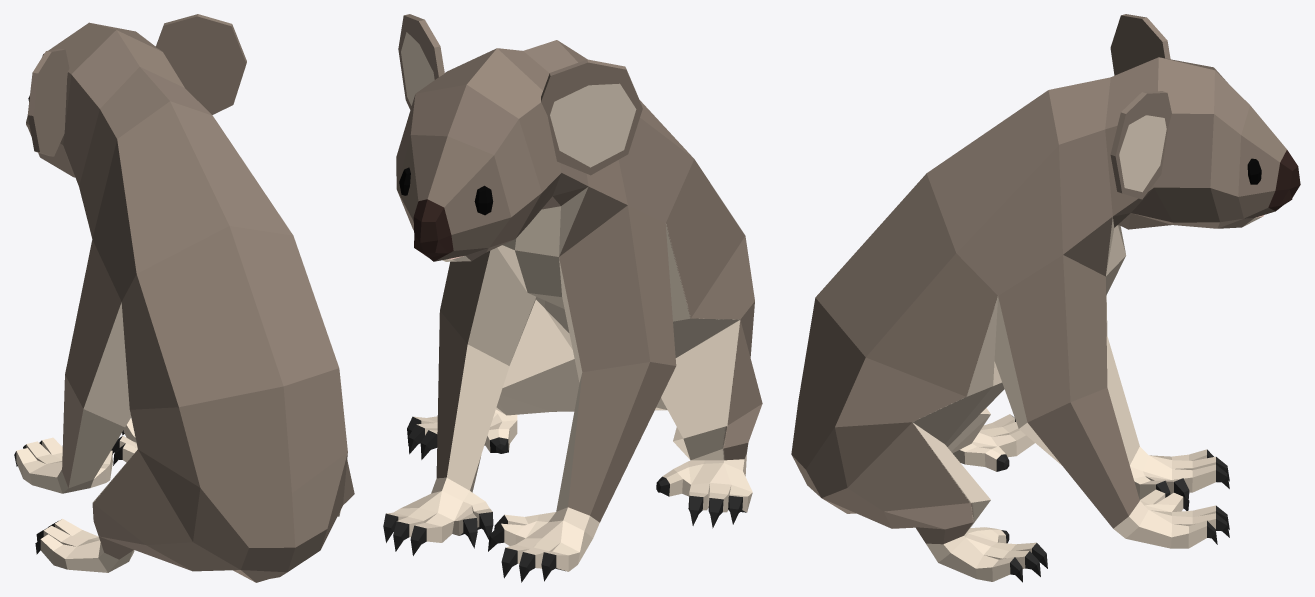
The model's file is koala.fbx.
The picture shows the model from 3 angles, left to right: view 1: azimuth 30°, elevation 25°; view 2: azimuth 150°, elevation 25°; view 3: azimuth 270°, elevation 25°; orthographic projection. The views are drawn at different scales.
Parts seen in each view (by area): view 1: Koala; view 2: Koala; view 3: Koala.
Boxes of the visible parts, x1,y1,x2,y2 form: Koala: (14, 14, 354, 582); Koala: (383, 14, 762, 582); Koala: (791, 14, 1300, 582).
Bounding box in the file's own units: 175 × 249 × 253.
